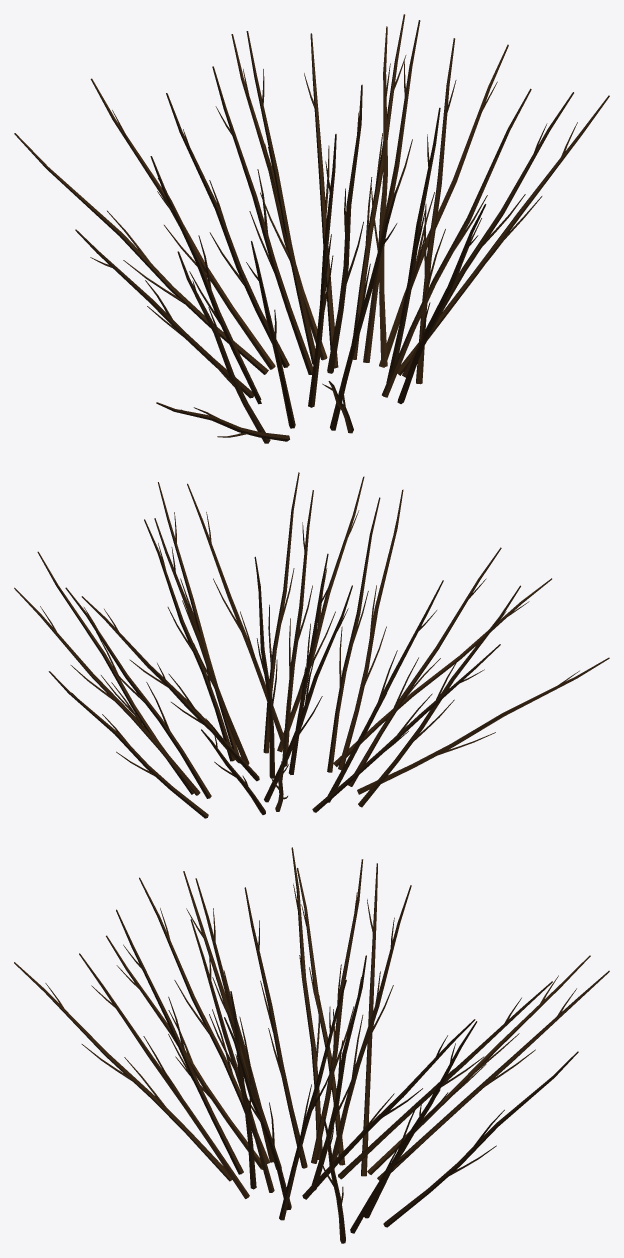
Rendered from patykowy_krzak.fbx.
The picture shows the model from 3 angles, top to bottom: view 1: azimuth 30°, elevation 25°; view 2: azimuth 150°, elevation 25°; view 3: azimuth 270°, elevation 25°; orthographic projection. The views are drawn at different scales.
Parts seen in each view (by area): view 1: Patykowaty_LOD0; view 2: Patykowaty_LOD0; view 3: Patykowaty_LOD0.
Part boxes in pixels (x1,y1,x2,y2): Patykowaty_LOD0: [14, 14, 609, 443]; Patykowaty_LOD0: [14, 472, 609, 818]; Patykowaty_LOD0: [14, 847, 609, 1243].
Size of what is drawn, in the model's own units: 254 by 149 by 254.
